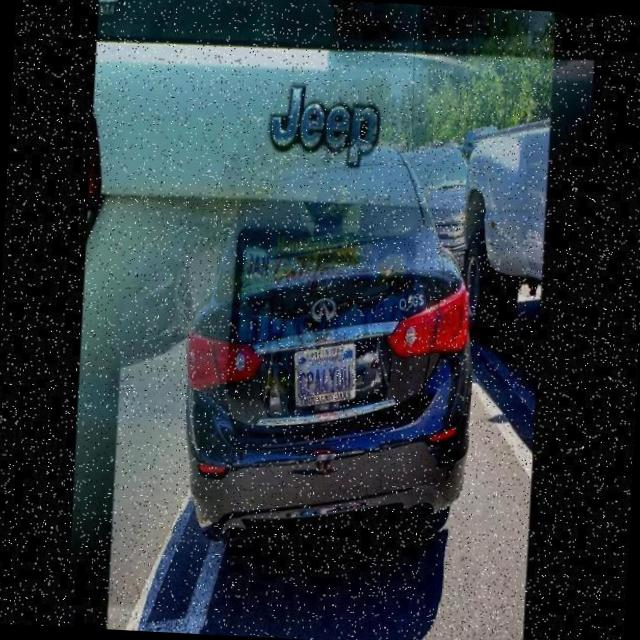LicensePlate: (290, 342, 364, 410)
